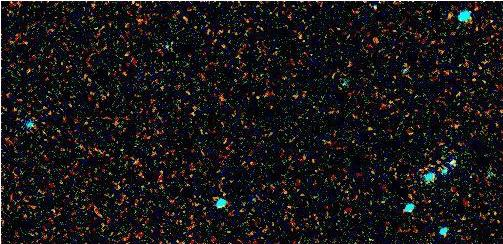star: (435, 0, 465, 30)
